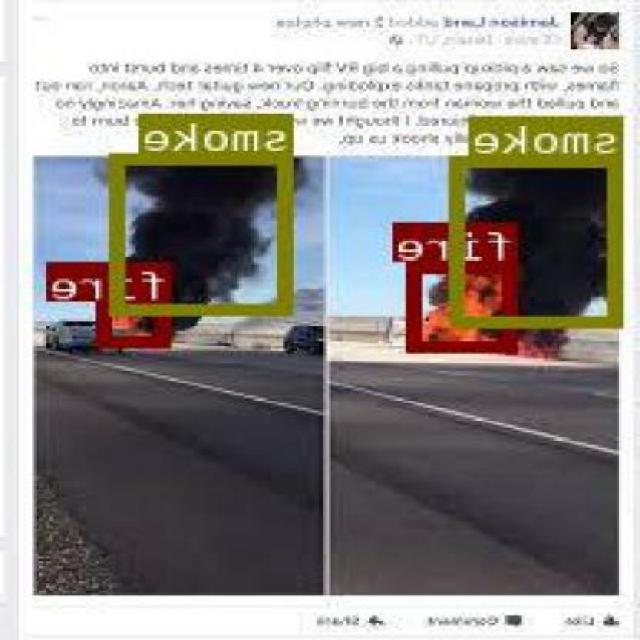Fire: (410, 262, 521, 350), (100, 298, 172, 346)
Smoke: (114, 153, 296, 313), (454, 154, 624, 323)
